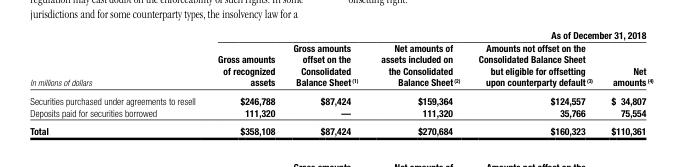table: (29, 28, 652, 135)
table column: (29, 28, 205, 135), (468, 28, 601, 135), (368, 28, 468, 135), (283, 28, 368, 135), (205, 28, 283, 135), (601, 28, 652, 135)
table column header: (29, 28, 652, 91)
table row: (29, 40, 652, 91), (29, 91, 652, 106), (29, 106, 652, 121), (29, 121, 652, 135), (29, 28, 652, 40)
table spanning cell: (29, 28, 205, 91), (205, 28, 652, 40)
